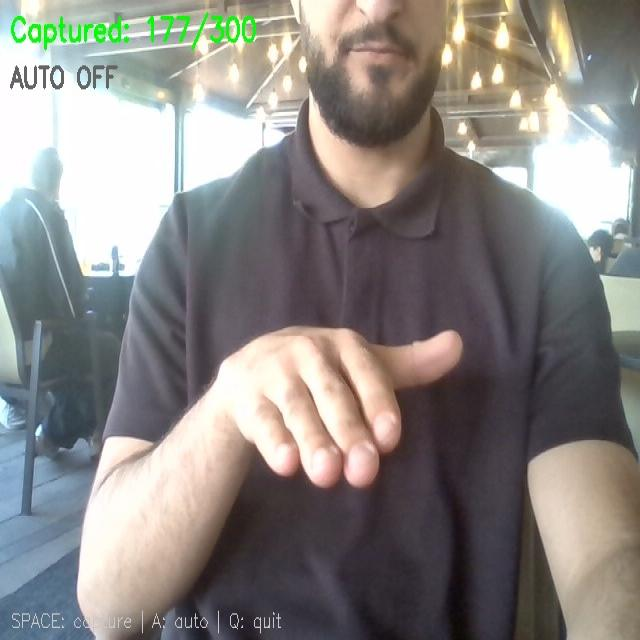Hand: (213, 327, 461, 486)
